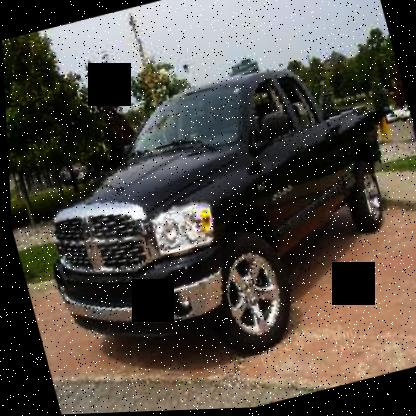not_emergency: (1, 36, 415, 409)
